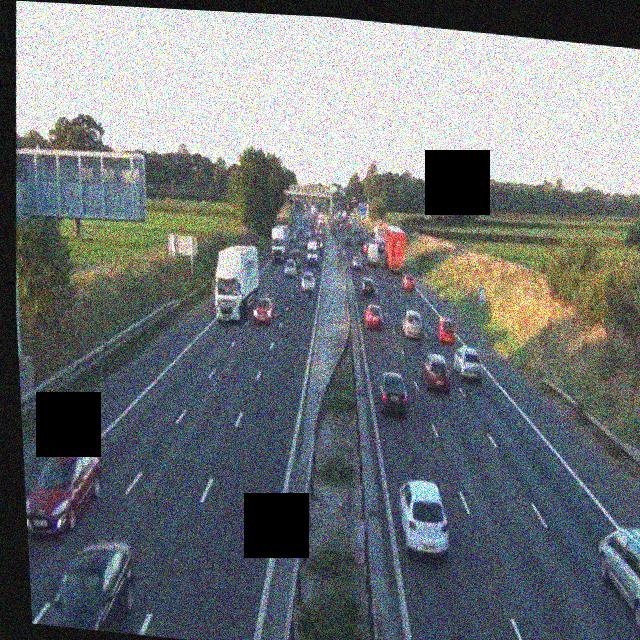car: (31, 532, 140, 635), (23, 438, 106, 542), (594, 524, 640, 640), (396, 477, 452, 558), (375, 371, 410, 418), (419, 352, 452, 393), (452, 345, 485, 383), (401, 308, 424, 339), (252, 293, 274, 324), (435, 317, 457, 345), (363, 302, 384, 330), (299, 270, 315, 294), (361, 275, 376, 296), (283, 257, 297, 277), (402, 273, 416, 292), (352, 254, 364, 272)
truck: (211, 241, 264, 325), (381, 224, 407, 274), (270, 223, 295, 266), (365, 239, 381, 269)
